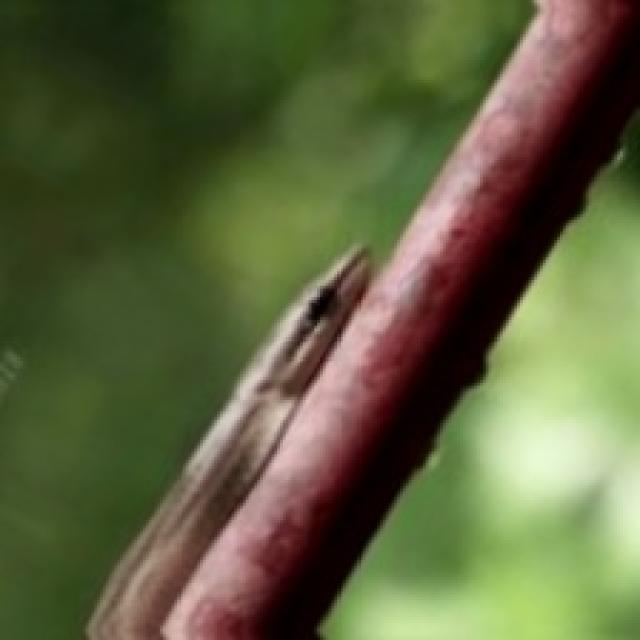red-tailed green ratsnake: (89, 249, 369, 637)
